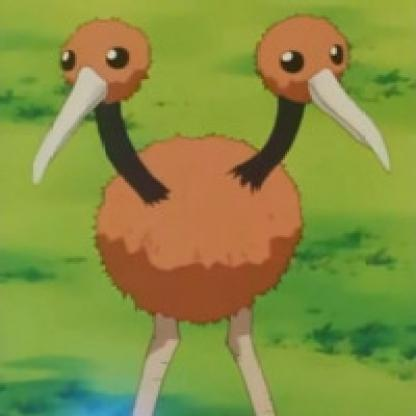Doduo: (34, 11, 394, 415)
